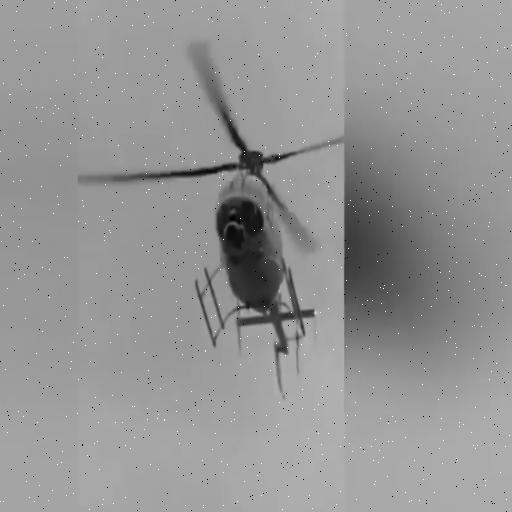helicopter: (80, 45, 347, 401)
